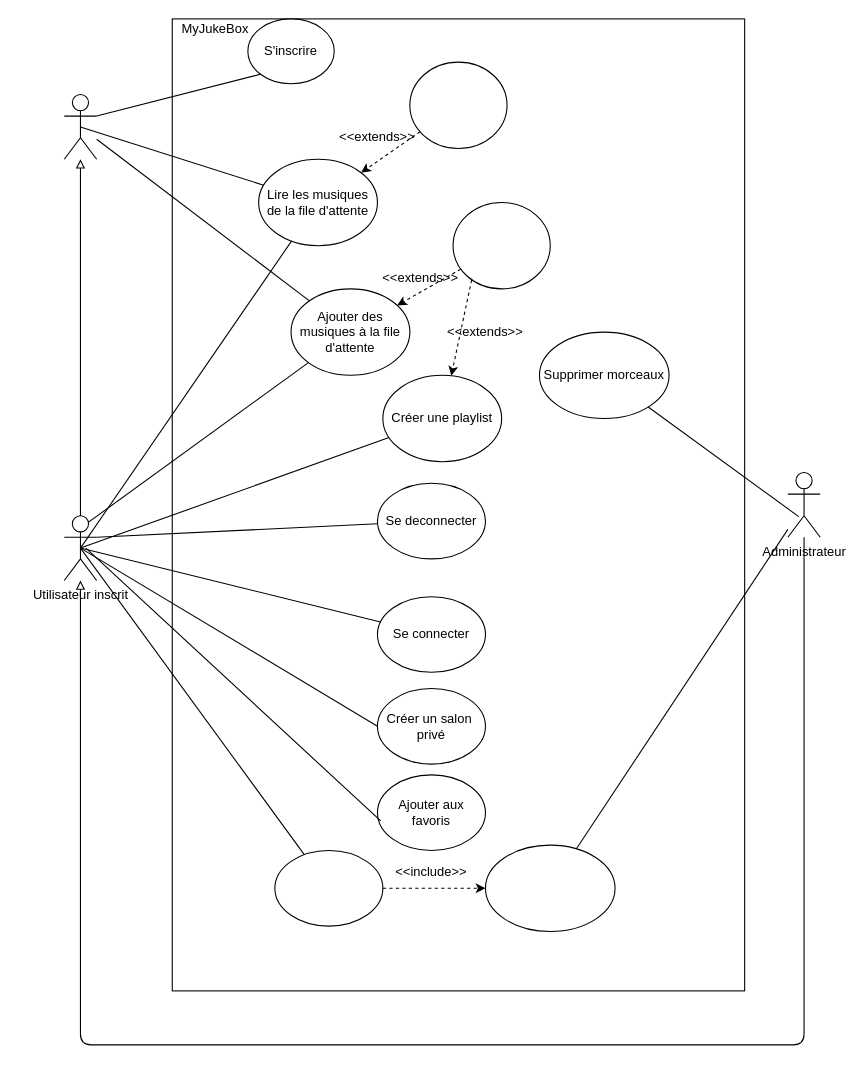
Image size: 864x1072. Some labels were removed from this diagram. Each missing label, with the centre of its shape:
Afficher les informations: the point at 458,104
Consulter le catalogue: the point at 501,245
Demander suppression du compte: the point at 328,887
Supprimer compte: the point at 549,888
Utilisateur non inscrit: the point at 80,126
